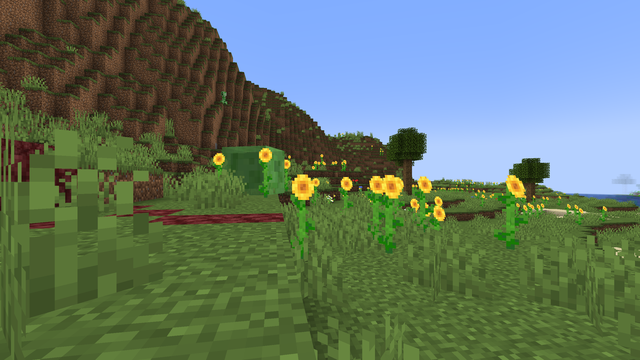creepers: (220, 90, 225, 103)
slimes: (226, 143, 278, 194)
